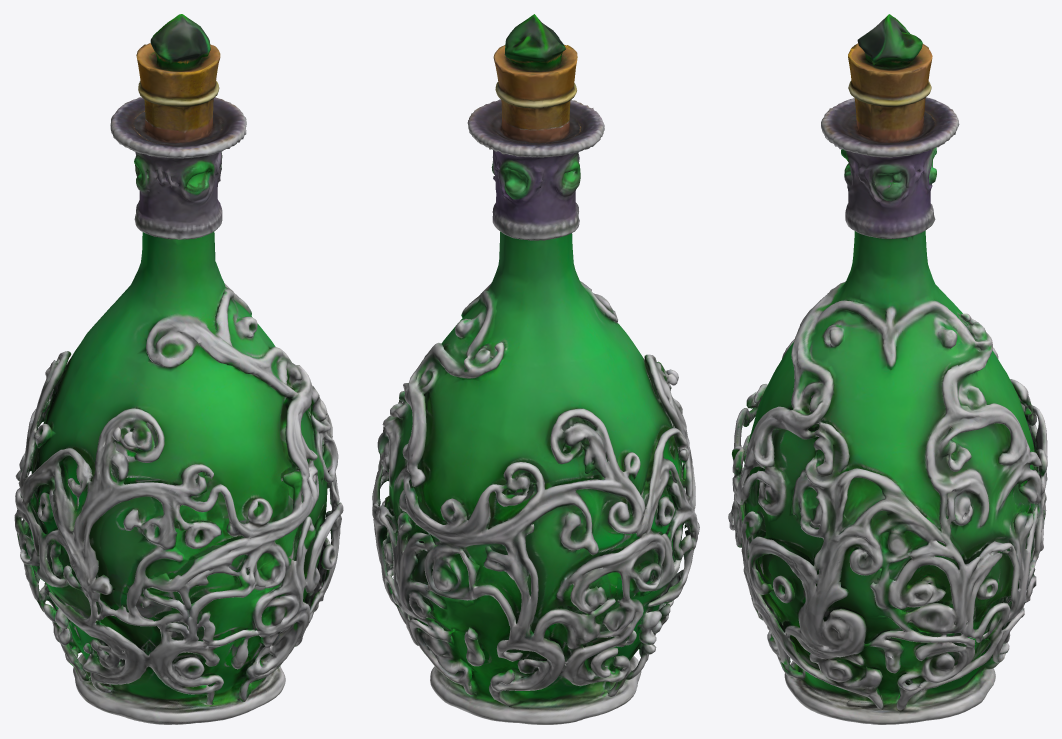
File: Meshy_AI_a_bottle_for_potions__1115233110_texture.glb
3 renders of one model, left to right at view 1: azimuth 30°, elevation 25°; view 2: azimuth 150°, elevation 25°; view 3: azimuth 270°, elevation 25°, orthographic.
Bounding box in the file's own units: 0.8658 × 2 × 0.8667.
Materials: 1 (1 with a texture image).
